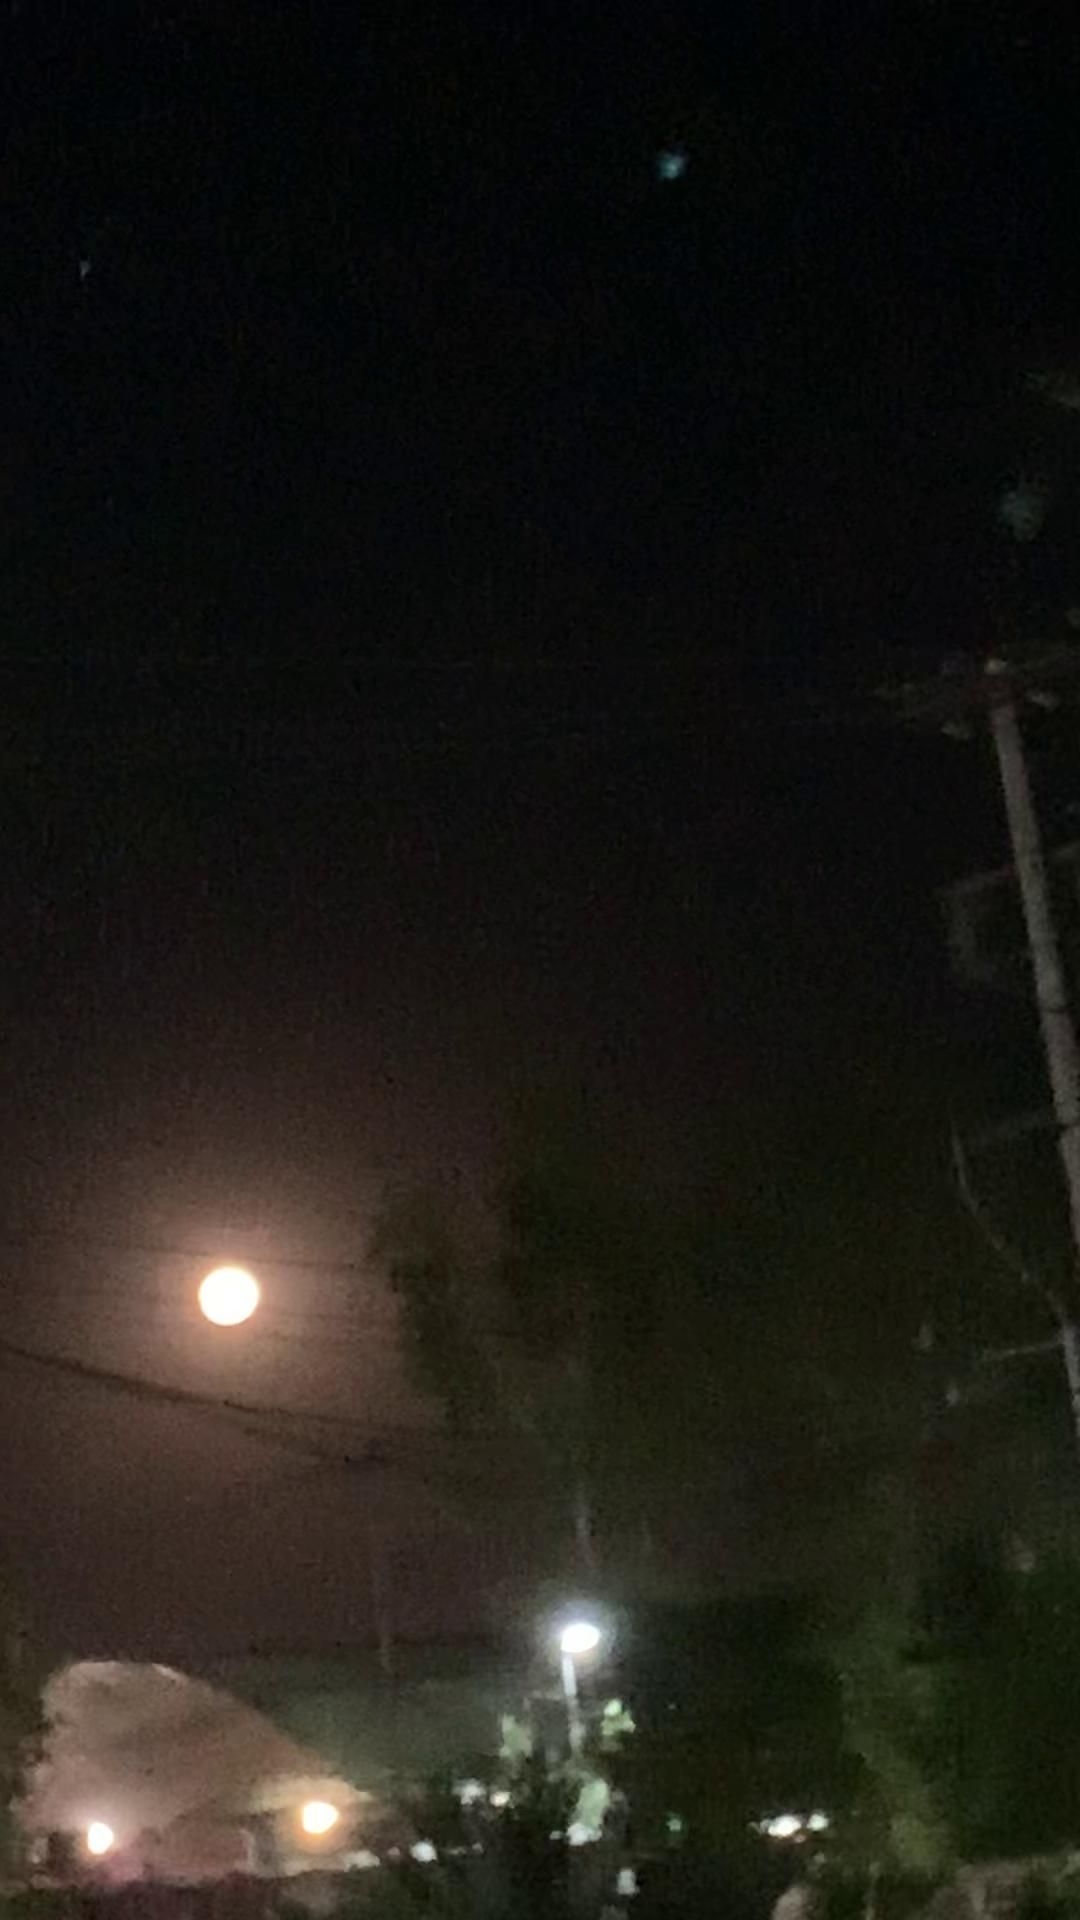moon: (202, 1249, 264, 1342)
